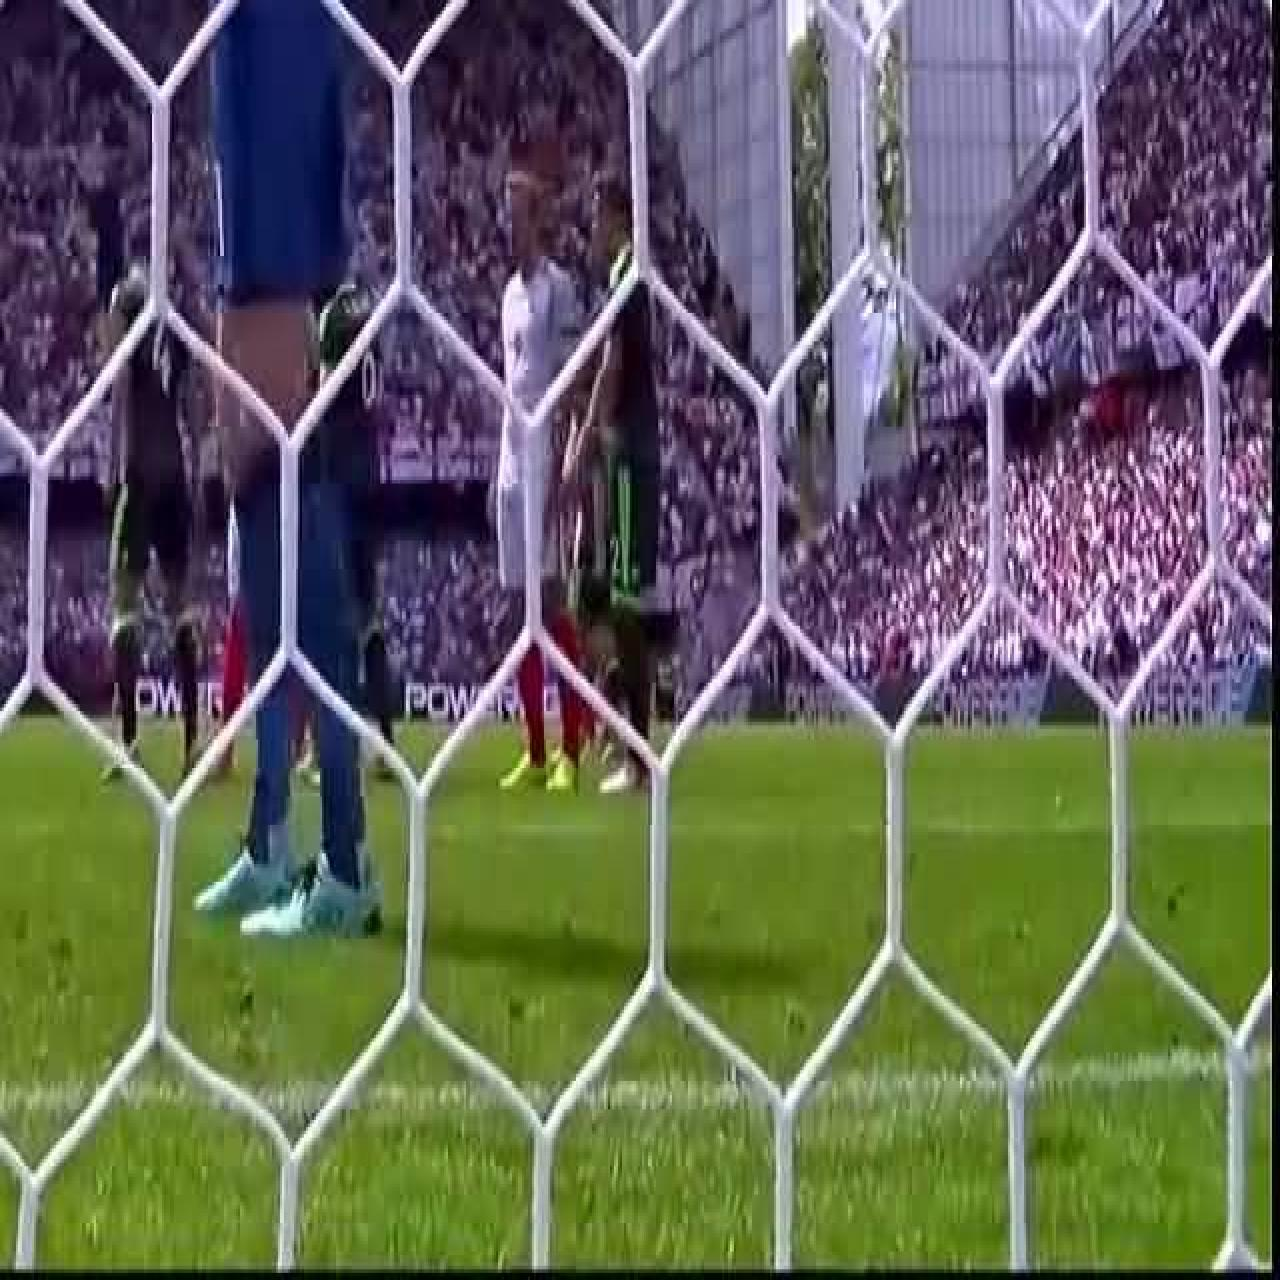football: (70, 0, 380, 939), (485, 170, 582, 802), (106, 220, 205, 786), (570, 170, 659, 789)
